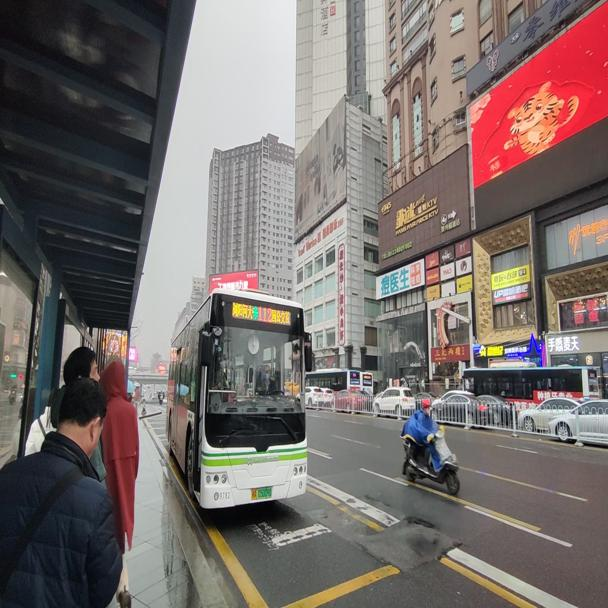bus: (164, 285, 313, 512)
screen: (258, 304, 272, 323)
